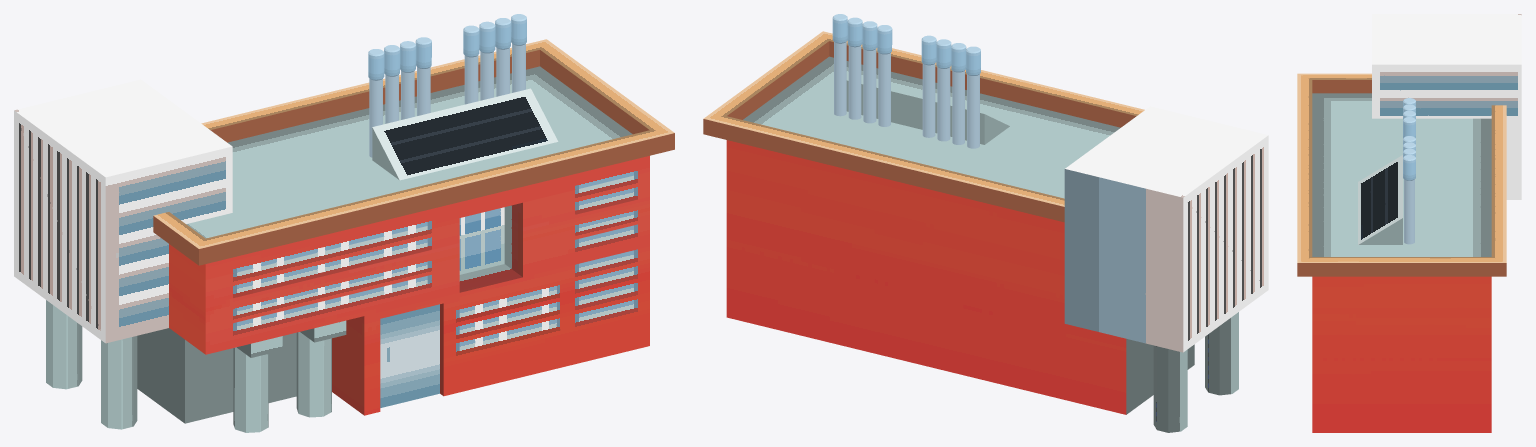
Rendered from anita.glb.
The picture shows the model from 3 angles, left to right: view 1: azimuth 30°, elevation 25°; view 2: azimuth 150°, elevation 25°; view 3: azimuth 270°, elevation 25°; orthographic projection. The views are drawn at different scales.
Parts seen in each view (by area): view 1: Cube, Cube.002, Cube.001, Door, Cylinder.011, Cylinder, Cylinder.001, Cylinder.010, Cylinder.002, Cylinder.006, Cylinder.007, Cylinder.008 (+4 smaller); view 2: Cube, Cube.002, Cylinder.010, Cylinder.011, Cube.001, Cylinder.004, Cylinder.007, Cylinder.008, Cylinder.005, Cylinder.009, Cylinder.006, Cylinder.002 (+1 smaller); view 3: Cube, Cube.002, Cube.001, Cylinder.009, Cylinder.005.
Boxes of the visible parts, <box> form: Cube: <box>137,39,674,423</box>; Cube.002: <box>14,79,232,343</box>; Cube.001: <box>372,88,558,180</box>; Door: <box>380,304,439,407</box>; Cylinder.011: <box>101,336,137,429</box>; Cylinder: <box>233,347,268,432</box>; Cylinder.001: <box>296,332,331,417</box>; Cylinder.010: <box>46,300,82,389</box>; Cylinder.002: <box>368,49,384,157</box>; Cylinder.006: <box>463,25,479,104</box>; Cylinder.007: <box>479,21,495,100</box>; Cylinder.008: <box>495,18,511,96</box>; Cube: <box>703,31,1194,414</box>; Cube.002: <box>1064,106,1268,352</box>; Cylinder.010: <box>1153,345,1187,432</box>; Cylinder.011: <box>1205,312,1238,395</box>; Cube.001: <box>846,80,1009,144</box>; Cylinder.004: <box>936,39,951,141</box>; Cylinder.007: <box>862,21,877,123</box>; Cylinder.008: <box>847,17,862,119</box>; Cylinder.005: <box>921,35,936,137</box>; Cylinder.009: <box>832,14,847,116</box>; Cylinder.006: <box>877,25,892,126</box>; Cylinder.002: <box>966,46,980,148</box>; Cube: <box>1297,73,1506,432</box>; Cube.002: <box>1372,14,1521,199</box>; Cube.001: <box>1358,155,1402,244</box>; Cylinder.009: <box>1403,155,1415,244</box>; Cylinder.005: <box>1403,117,1415,137</box>.
Bounding box in the file's own units: 8.25 × 4.56 × 3.75.
8 materials, 8 textured.
